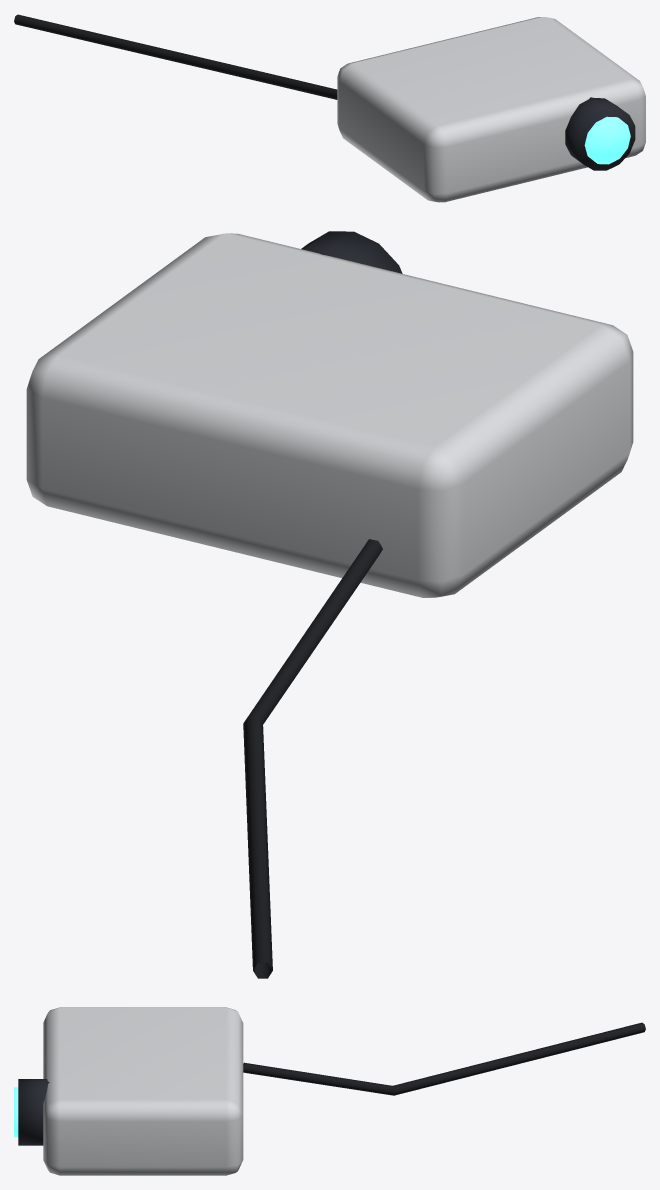
Rendered from Projector.fbx.
3 renders of one model, top to bottom at view 1: azimuth 30°, elevation 25°; view 2: azimuth 150°, elevation 25°; view 3: azimuth 270°, elevation 25°, orthographic. The views are drawn at different scales.
Parts seen in each view (by area): view 1: ProjectorBody; view 2: ProjectorBody; view 3: ProjectorBody.
Boxes of the visible parts, <box> form: ProjectorBody: <box>14,14,645,202</box>; ProjectorBody: <box>26,231,633,978</box>; ProjectorBody: <box>14,1007,645,1175</box>.
Size of the model in its own units: 0.4551 by 0.1102 by 0.7581.
